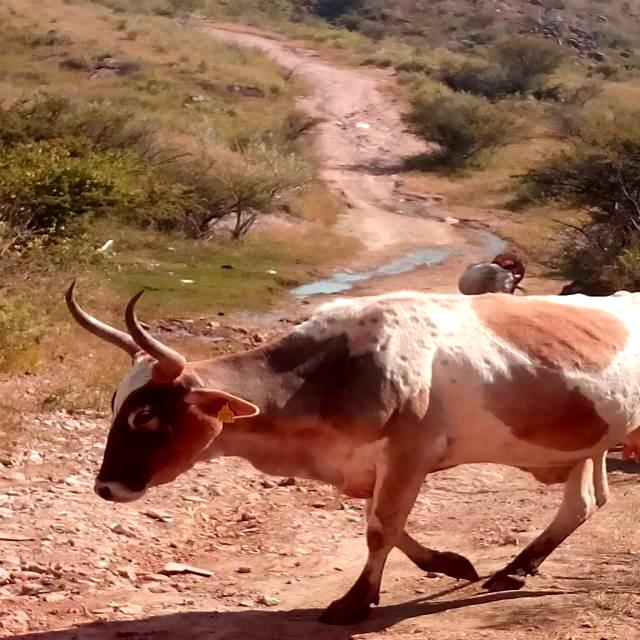COW: (66, 286, 640, 624)
